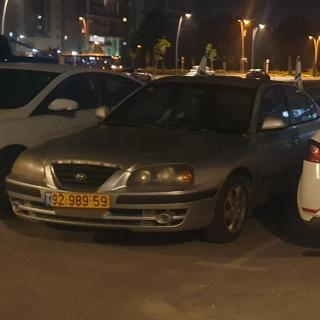LicensePlate: (51, 192, 109, 209)
